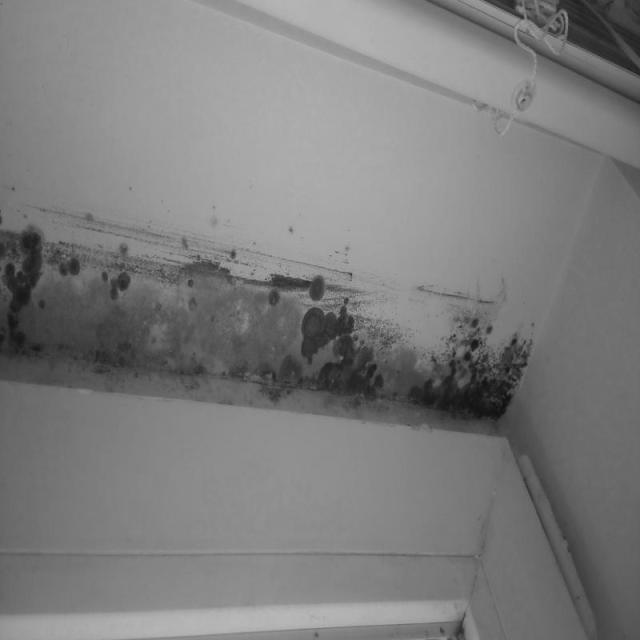stain marks: (0, 202, 569, 474)
